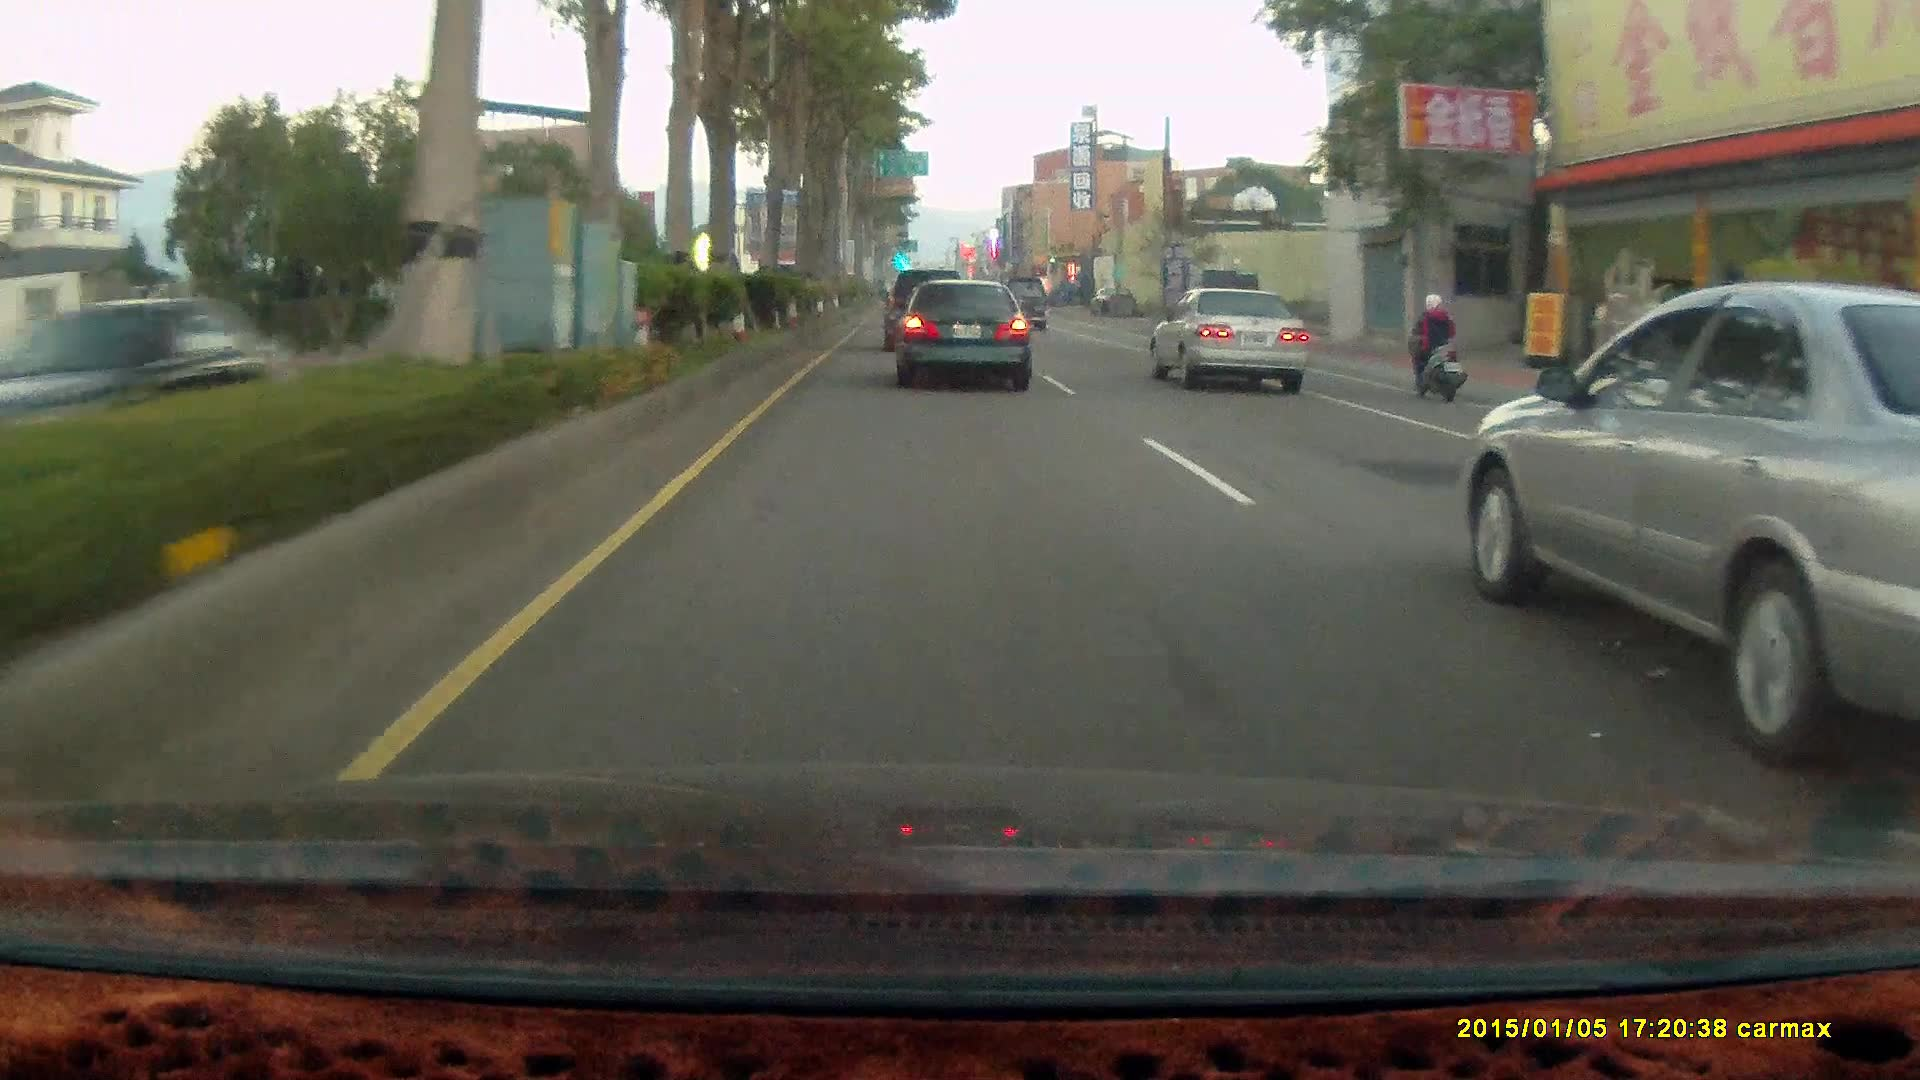rider: (1397, 286, 1474, 409), (1402, 287, 1467, 402)
vehicle: (1458, 288, 1920, 771), (1, 297, 281, 442), (1151, 287, 1310, 401), (1149, 285, 1309, 395), (894, 278, 1034, 397), (893, 288, 1033, 400), (884, 268, 973, 355), (883, 271, 965, 349), (1182, 278, 1260, 350), (1000, 276, 1047, 332)
